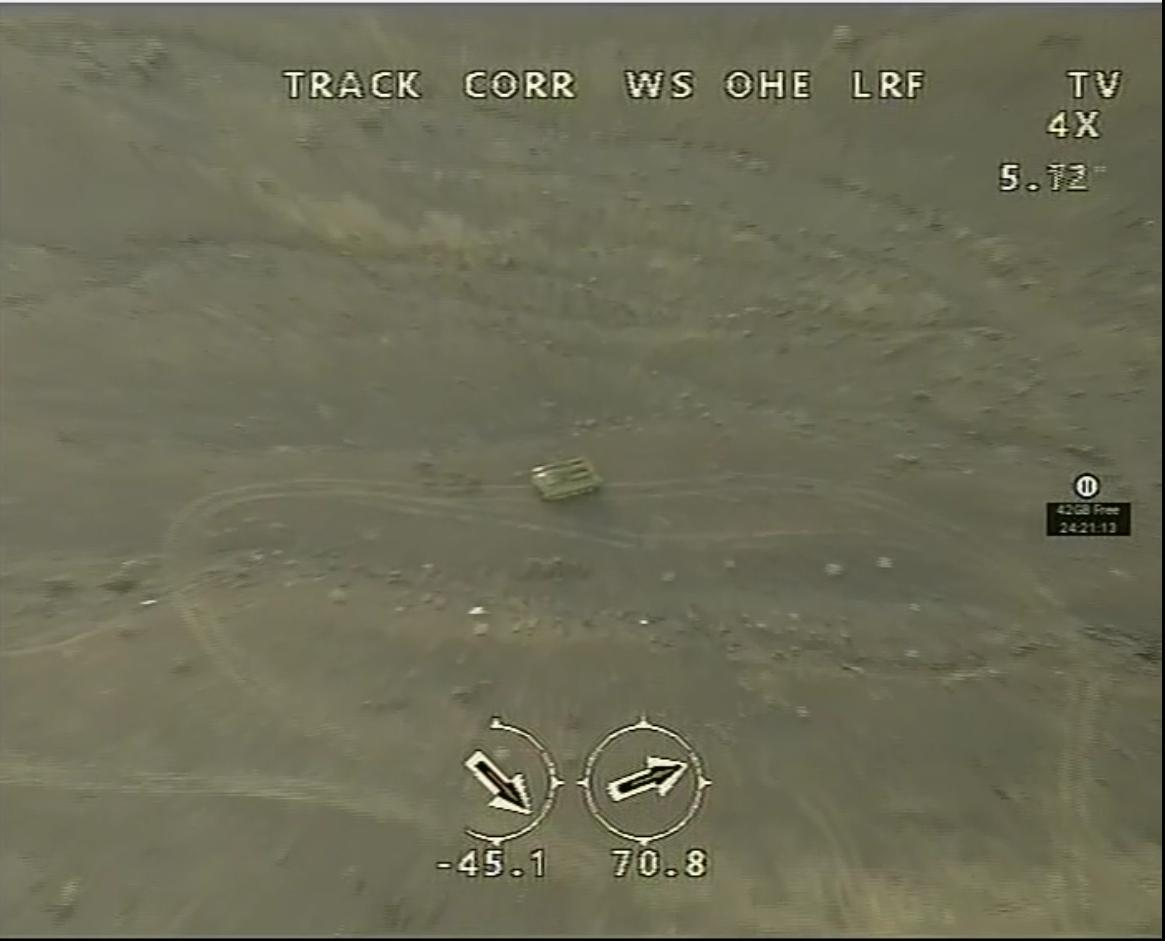armored_car: (524, 454, 602, 505)
